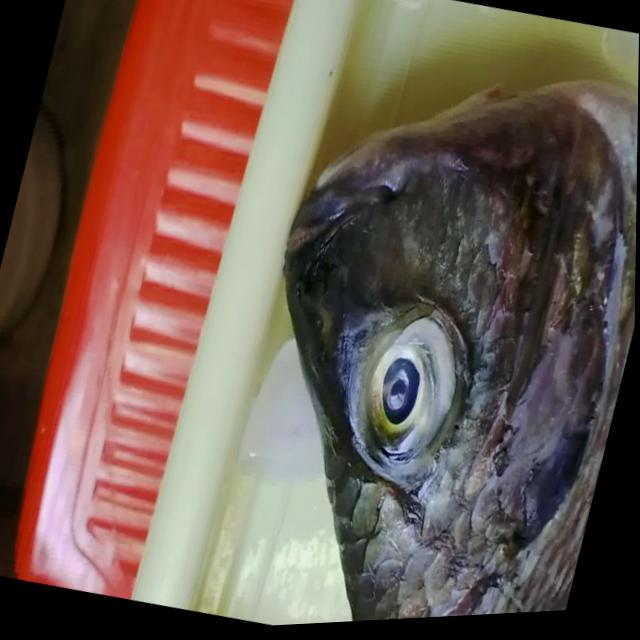Fresh: (290, 238, 512, 624)
